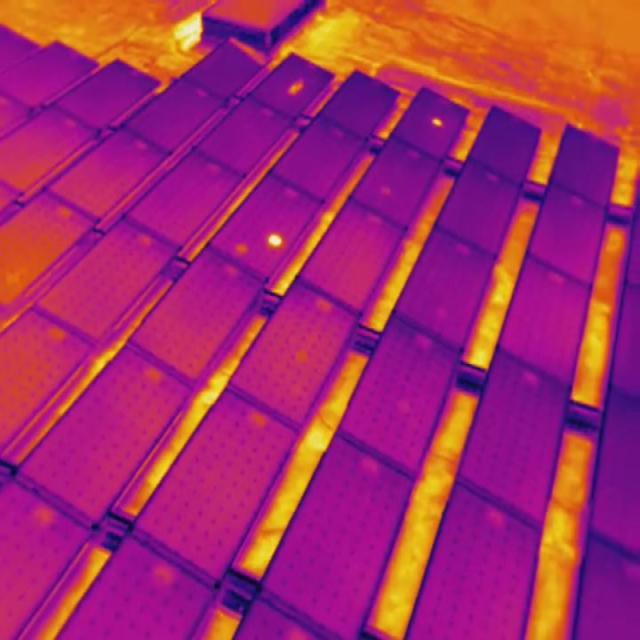Orange-Spots: (289, 77, 304, 96), (268, 232, 284, 248), (236, 240, 249, 256), (431, 117, 443, 127)
